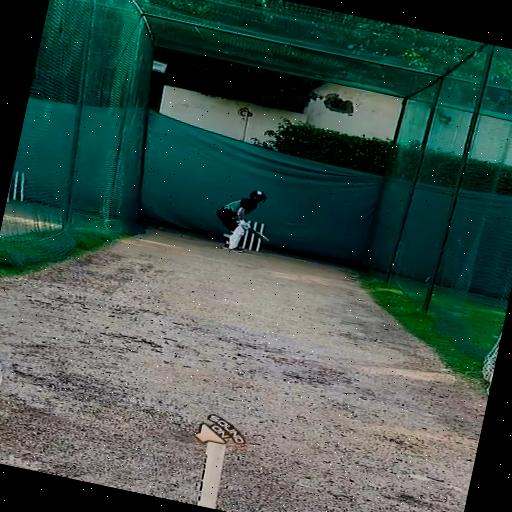Cricket bat: (252, 227, 267, 240)
